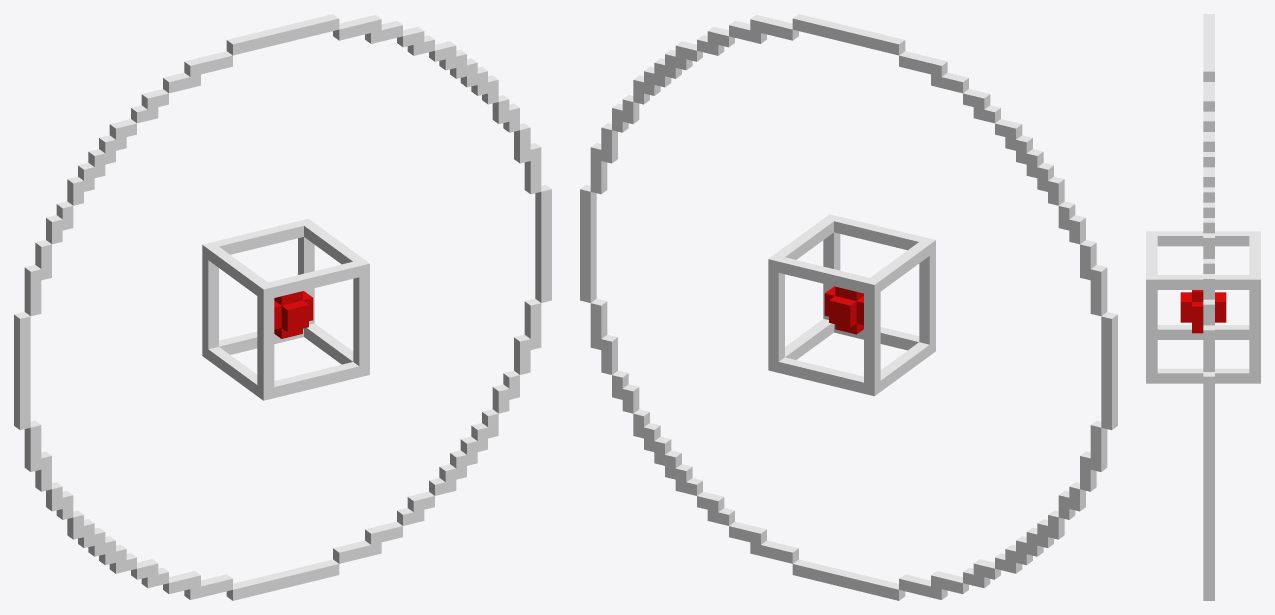
File: checkpoint.obj
The picture shows the model from 3 angles, left to right: view 1: azimuth 30°, elevation 25°; view 2: azimuth 150°, elevation 25°; view 3: azimuth 270°, elevation 25°; orthographic projection. The views are drawn at different scales.
Size of the model in its own units: 5 by 5 by 1.
1 material, 1 textured.
